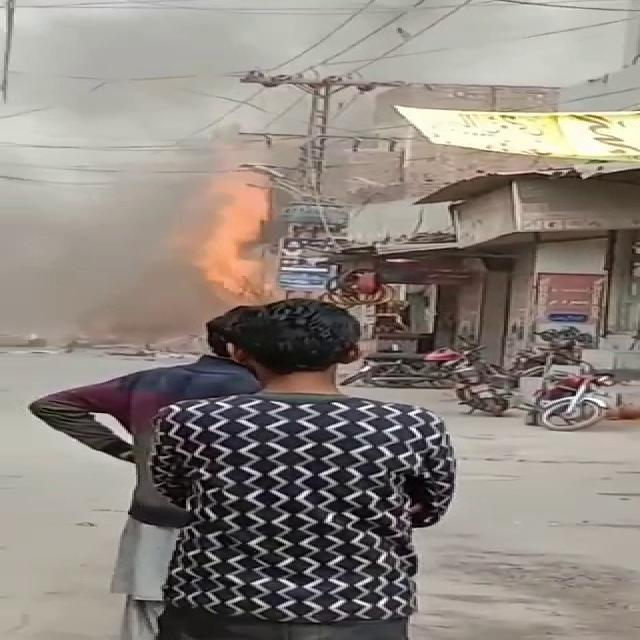Fire: (166, 165, 286, 321)
